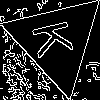K: (31, 16, 83, 60)
